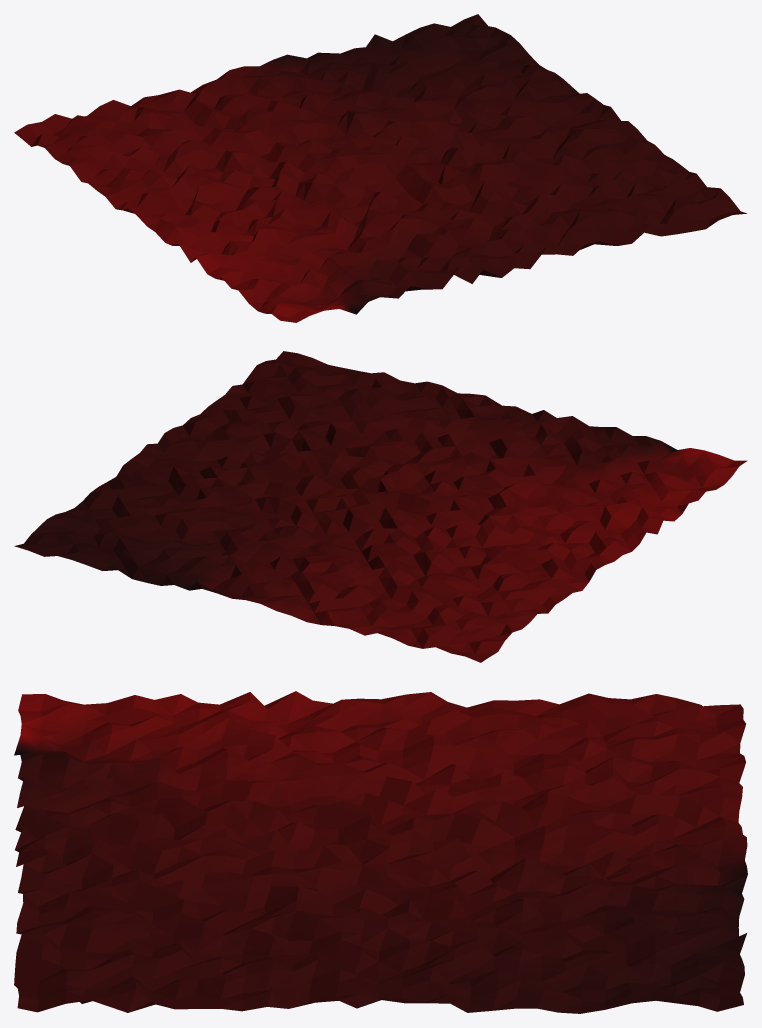
File: background.fbx
The picture shows the model from 3 angles, top to bottom: view 1: azimuth 30°, elevation 25°; view 2: azimuth 150°, elevation 25°; view 3: azimuth 270°, elevation 25°; orthographic projection. The views are drawn at different scales.
Parts seen in each view (by area): view 1: background; view 2: background; view 3: background.
Boxes of the visible parts, <box> form: background: <box>14,14,746,322</box>; background: <box>14,351,747,662</box>; background: <box>14,691,747,1013</box>.
Bounding box in the file's own units: 2604 × 107 × 2634.
